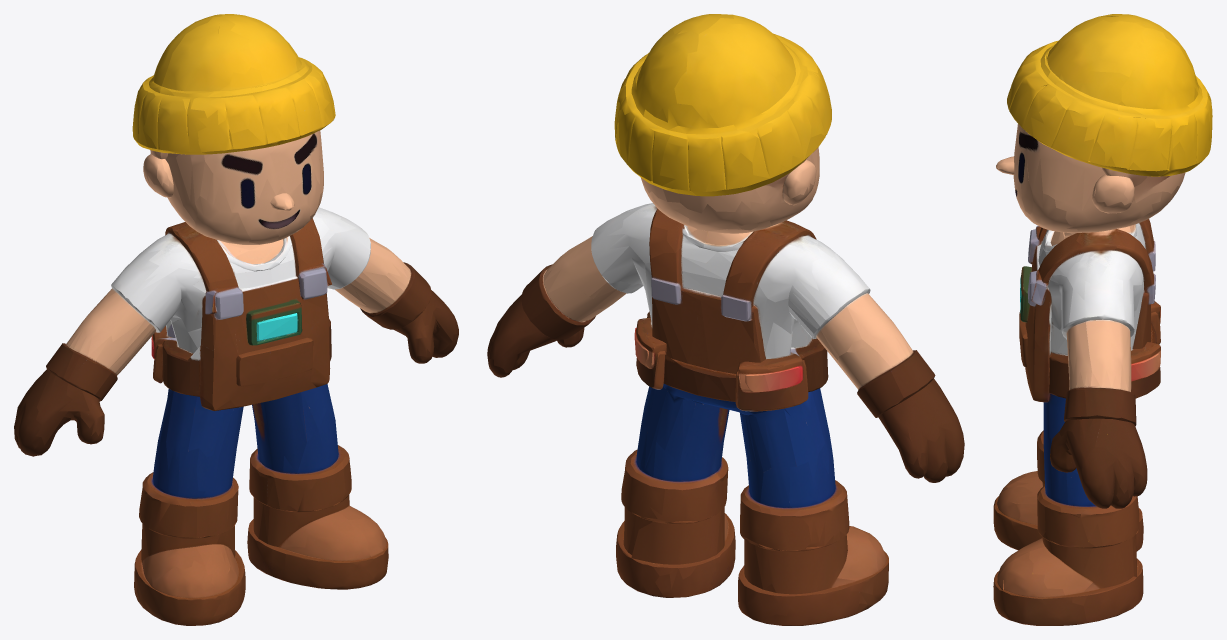
File: brocken_reduziert_statisch.glb
3 views of the same model, side by side, from view 1: azimuth 30°, elevation 25°; view 2: azimuth 150°, elevation 25°; view 3: azimuth 270°, elevation 25° (orthographic). The views are drawn at different scales.
Visible parts, largest first — view 1: output_unwrapped; view 2: output_unwrapped; view 3: output_unwrapped.
Part boxes in pixels (bbox=[...]): output_unwrapped: bbox=[14, 14, 458, 625]; output_unwrapped: bbox=[487, 14, 964, 625]; output_unwrapped: bbox=[993, 14, 1212, 625].
Bounding box in the file's own units: 1.61 × 1.9 × 0.6871.
Materials: 1 (1 with a texture image).
